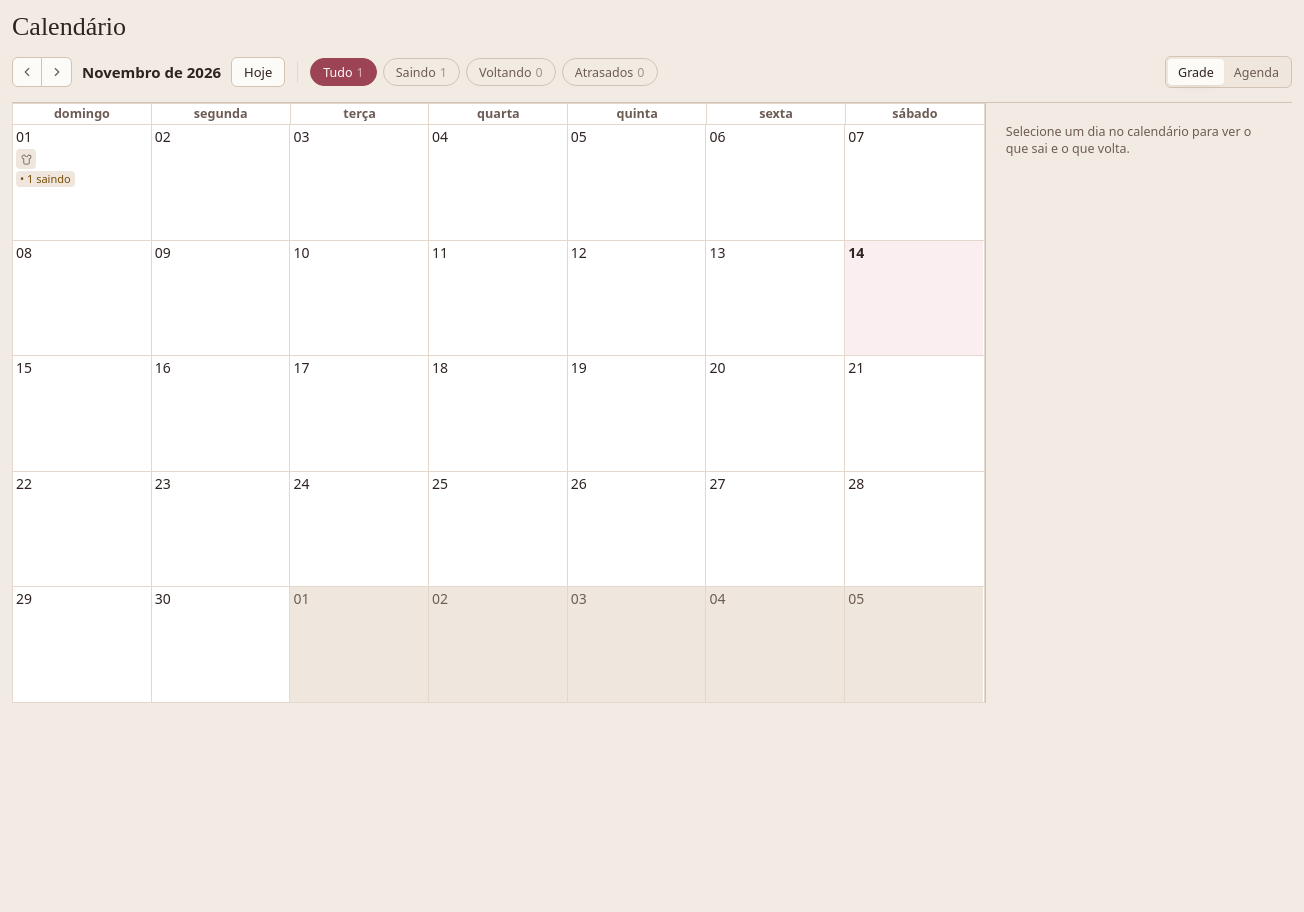
Test case: CalendarPage › opens the day panel with the day's pieces named, which the cell no longer does
Expected: the table with class "rbc-month-view" is shown, [12, 103, 985, 703]
Expected: the text "• 1 saindo" is shown, [16, 171, 75, 187]
Click the 1st button with class "rbc-button-link".
click(24, 137)  # box [16, 127, 32, 147]
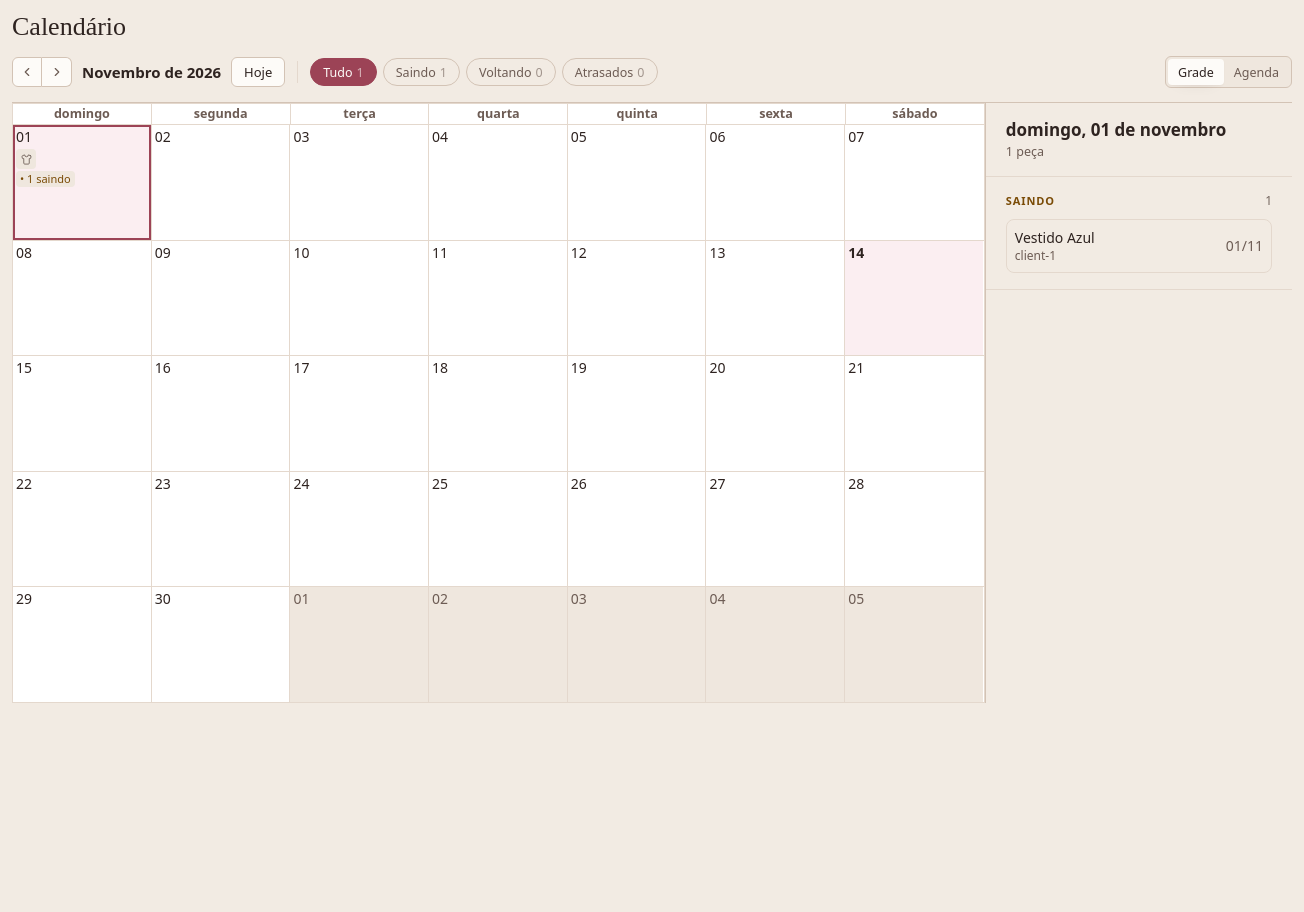
Result: the text "Vestido Azul" is shown at [1015, 228, 1095, 248]
